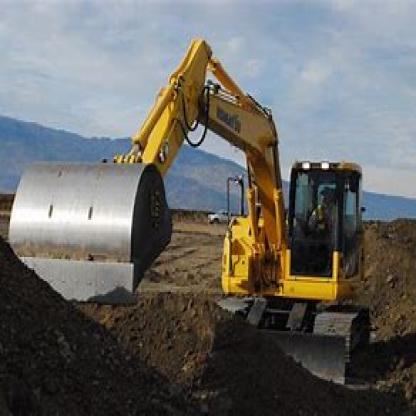excavator: (10, 28, 397, 384)
